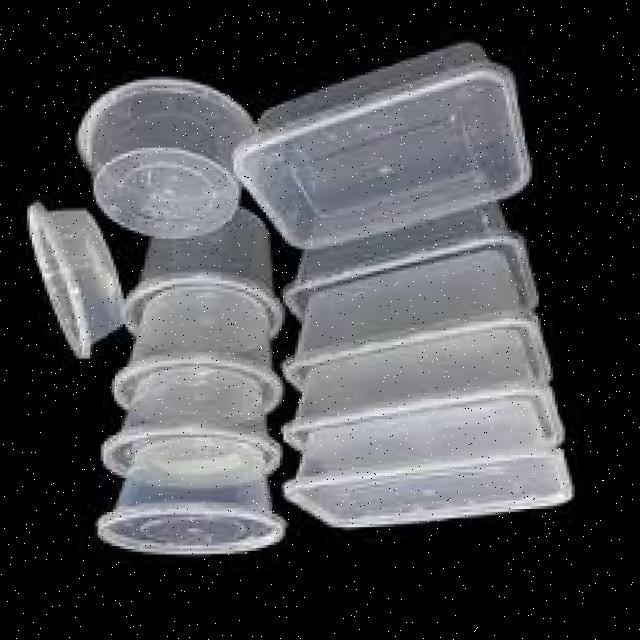disposable: (220, 32, 563, 259), (287, 400, 587, 540), (66, 68, 270, 249), (87, 432, 302, 563), (18, 189, 134, 350)
